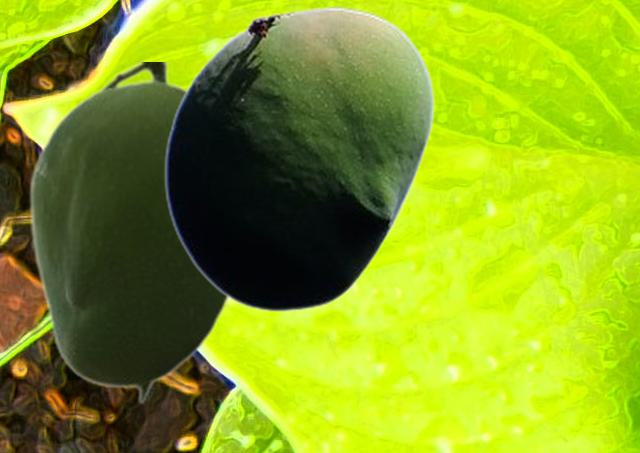green_mango: (163, 5, 435, 311), (27, 62, 230, 404)
